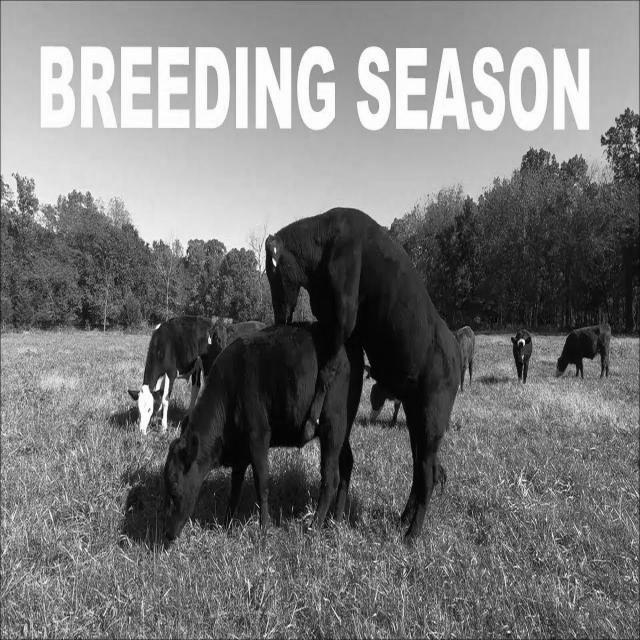cow: (266, 208, 459, 539), (164, 326, 318, 541), (312, 351, 352, 527)
